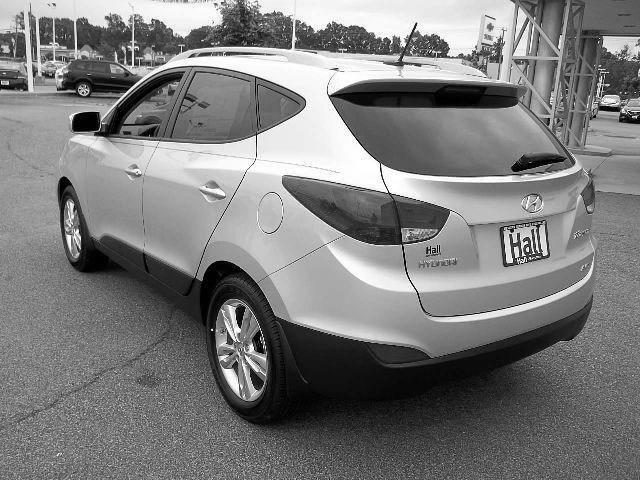car: (55, 23, 601, 425)
